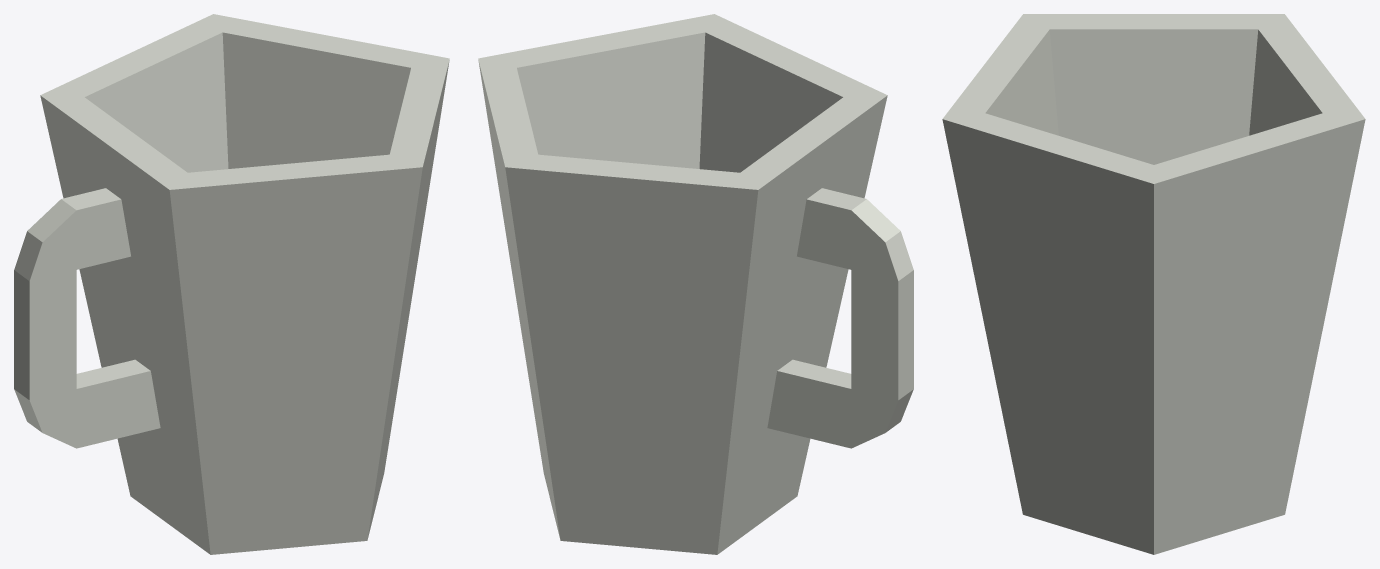
Rendered from cup_empty_handle_1.fbx.
3 views of the same model, side by side, from view 1: azimuth 30°, elevation 25°; view 2: azimuth 150°, elevation 25°; view 3: azimuth 270°, elevation 25° (orthographic).
Visible parts, largest first — view 1: cup_empty_handle_1; view 2: cup_empty_handle_1; view 3: cup_empty_handle_1.
Boxes of the visible parts, bbox=[...] form: cup_empty_handle_1: bbox=[14, 14, 449, 554]; cup_empty_handle_1: bbox=[478, 14, 913, 554]; cup_empty_handle_1: bbox=[942, 14, 1365, 554].
Size of the model in its own units: 0.7502 by 0.6685 by 0.6358.
